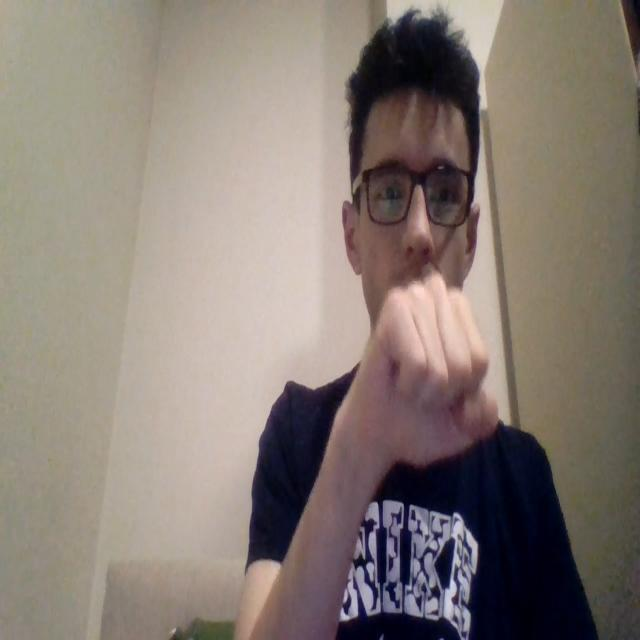yes: (364, 266, 498, 468)
